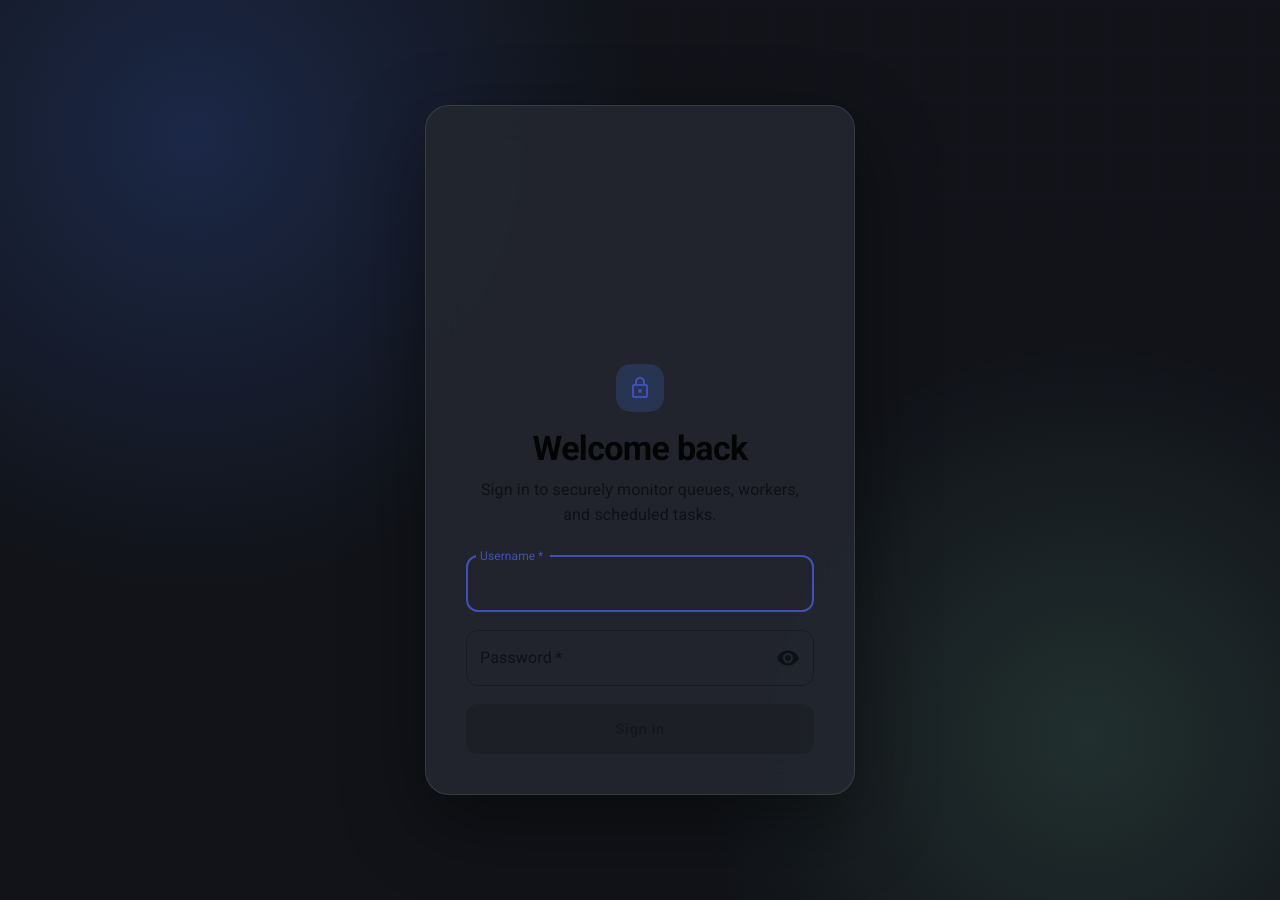
shows the server's generic authentication error
Step 1. Type "operator" into the field labelled "Username" → [640, 584], box [466,556,814,612]
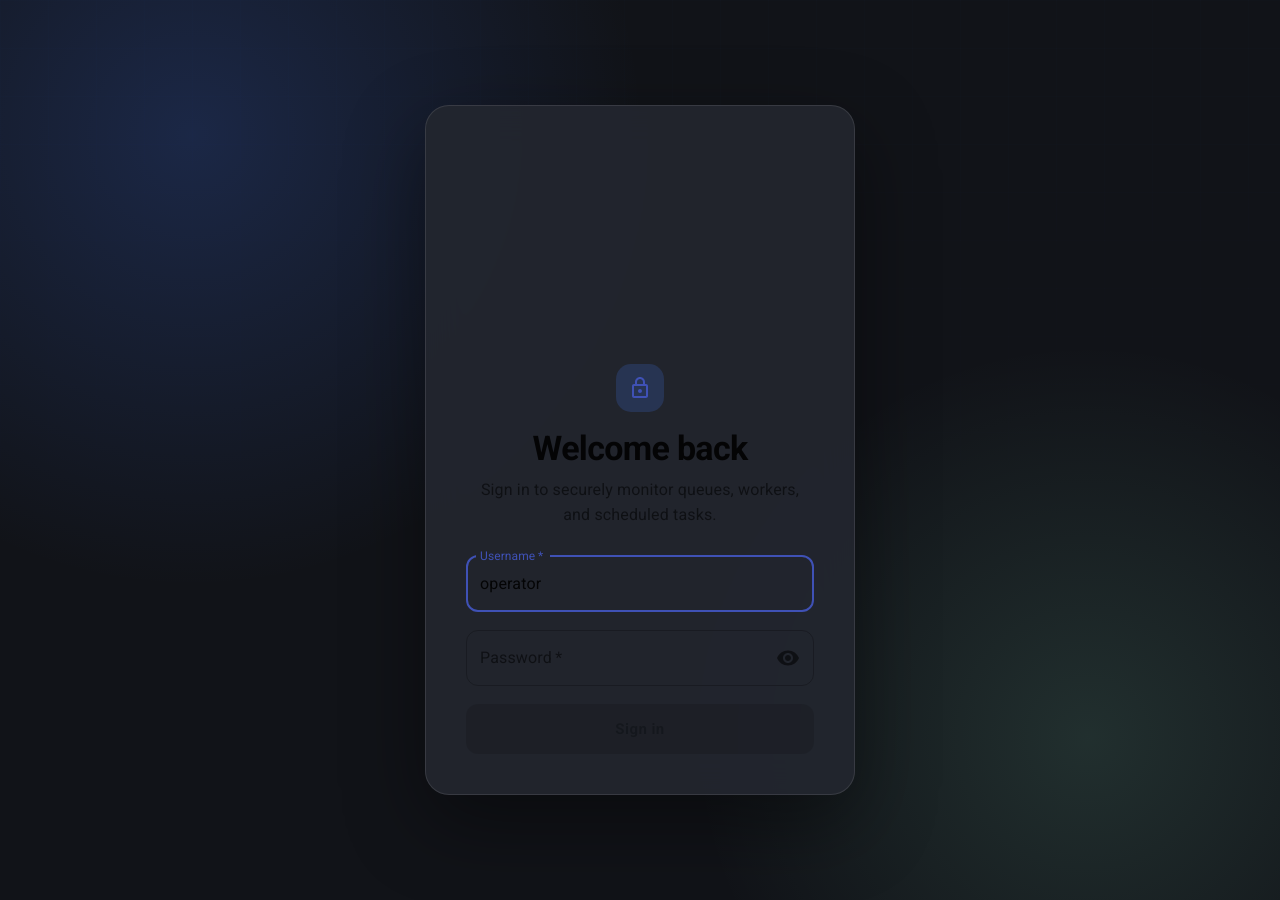
Step 2. Type "wrong" into the password field labelled "Password" → [611, 658], box [466,630,756,686]
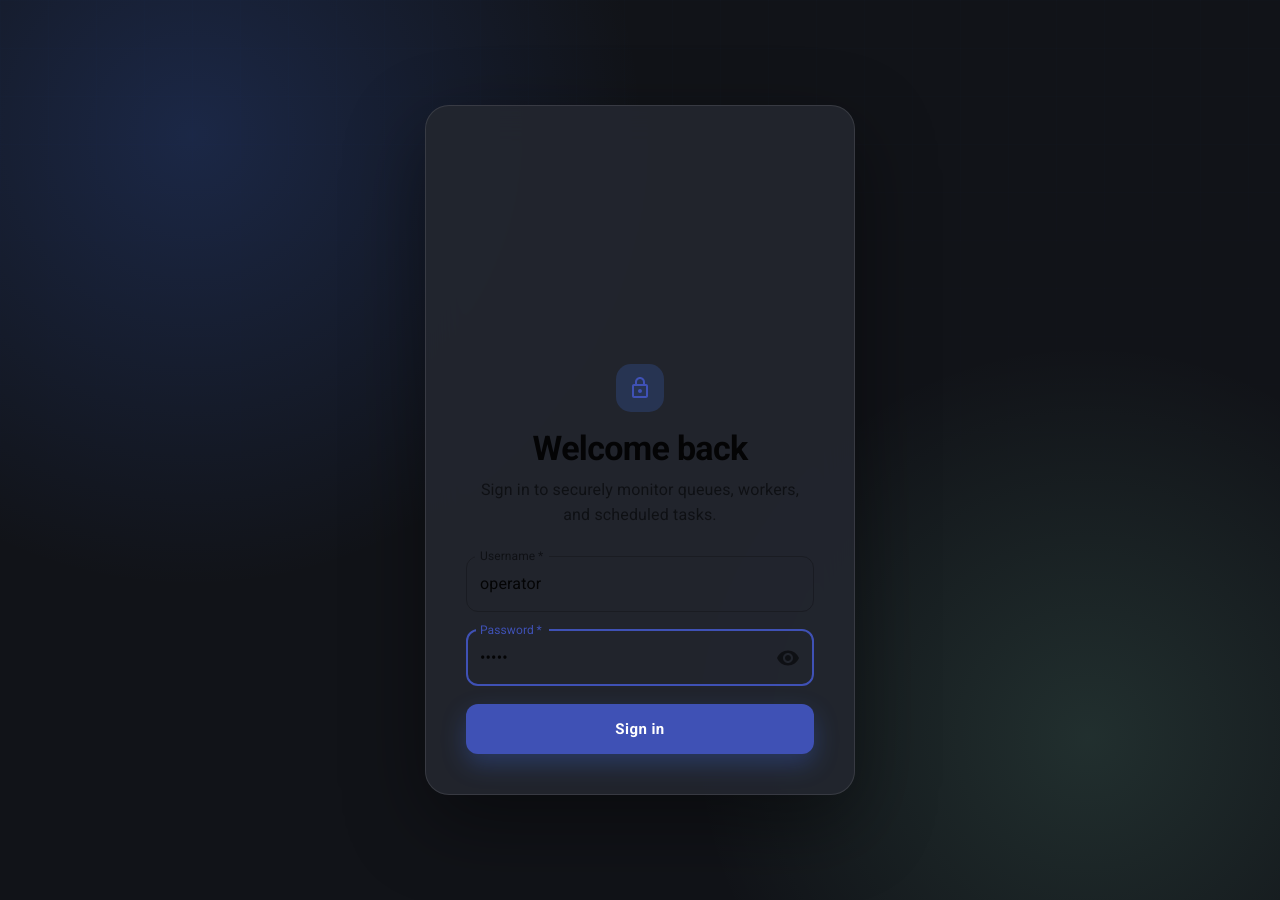
Step 3. Click the button "Sign in" → [640, 729], box [466,704,814,754]
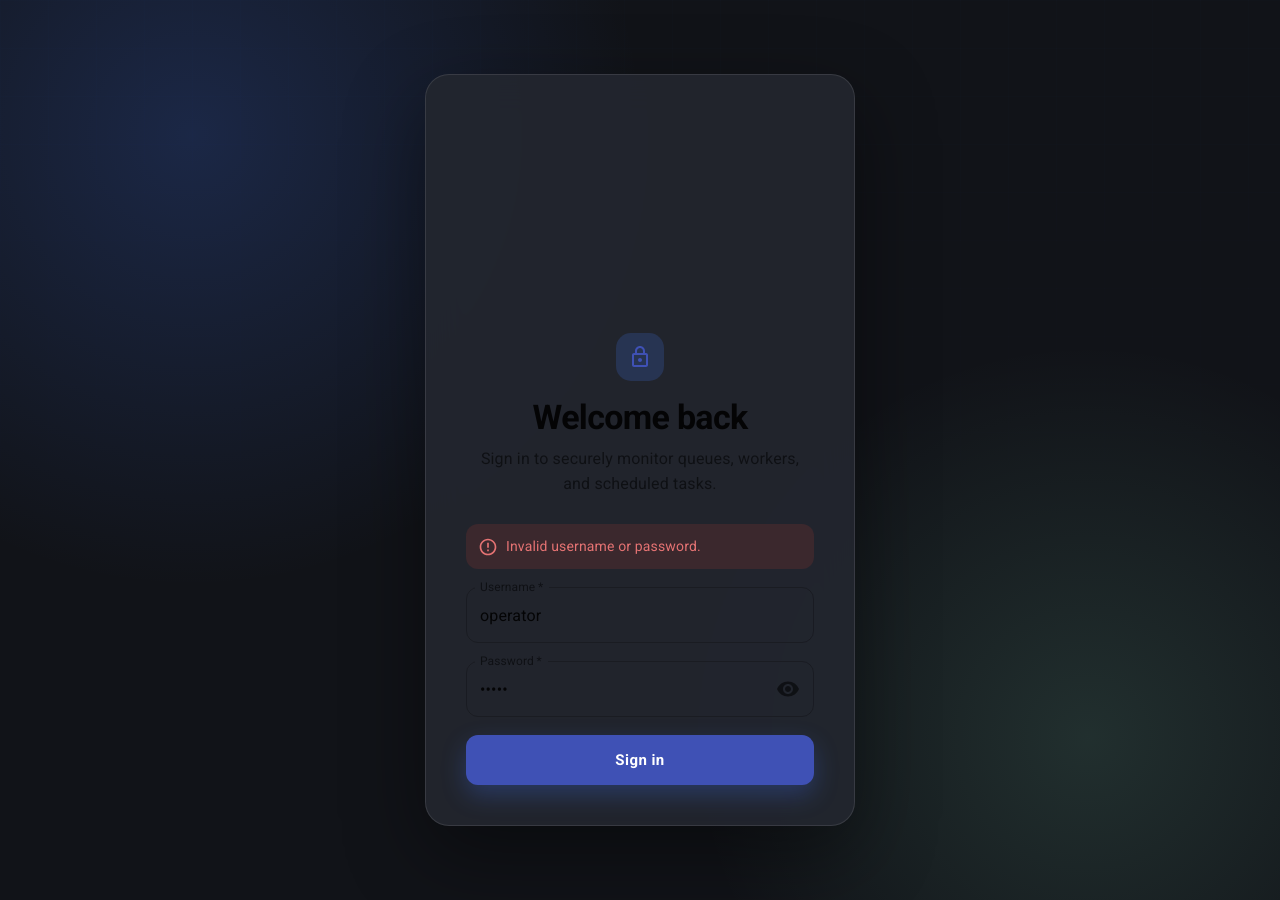
Expected: the message reads "Invalid username or password.", [506,538,701,554]
